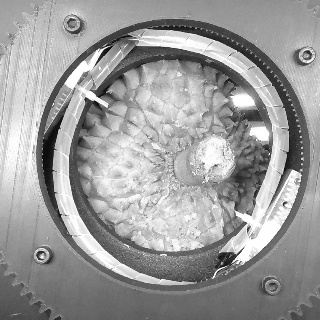base: (154, 142, 193, 191)
end: (192, 134, 237, 181)
